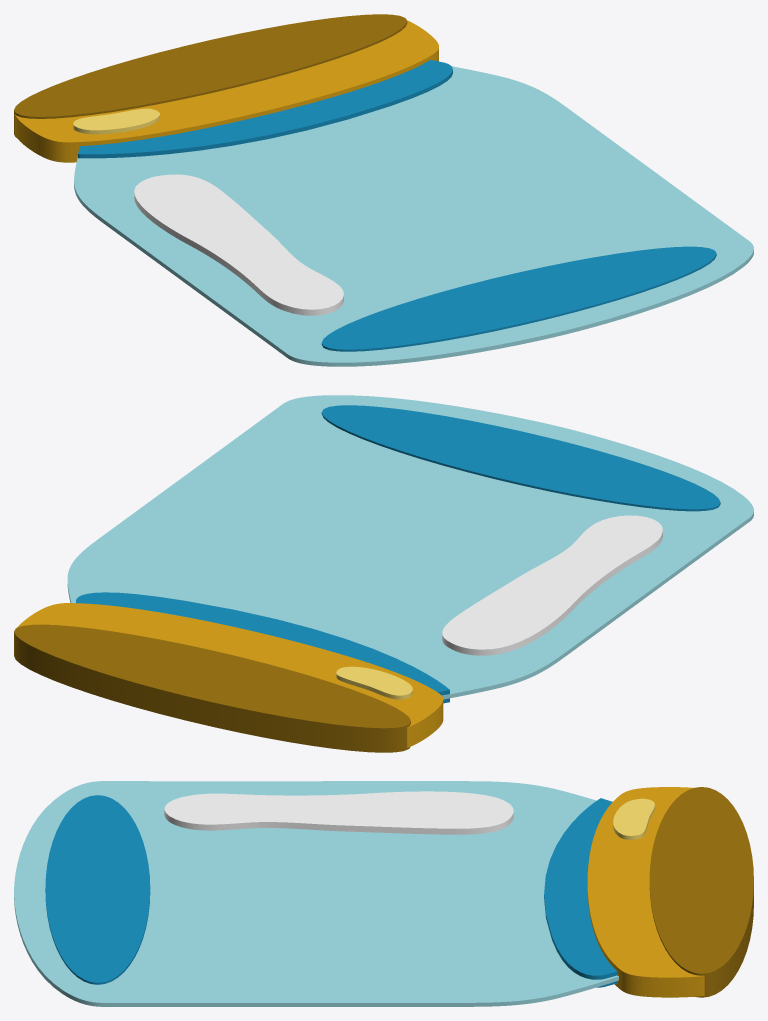
The model's file is emoji_u1fad9.glb.
The picture shows the model from 3 angles, top to bottom: view 1: azimuth 30°, elevation 25°; view 2: azimuth 150°, elevation 25°; view 3: azimuth 270°, elevation 25°; orthographic projection. The views are drawn at different scales.
Visible parts, largest first — view 1: emoji_u1fad9; view 2: emoji_u1fad9; view 3: emoji_u1fad9.
Part boxes in pixels (x1=…): emoji_u1fad9: x1=14, y1=14, x2=753, y2=366; emoji_u1fad9: x1=14, y1=395, x2=753, y2=752; emoji_u1fad9: x1=14, y1=781, x2=753, y2=1006.
Bounding box in the file's own units: 0.0239 × 0.0014 × 0.0337.
